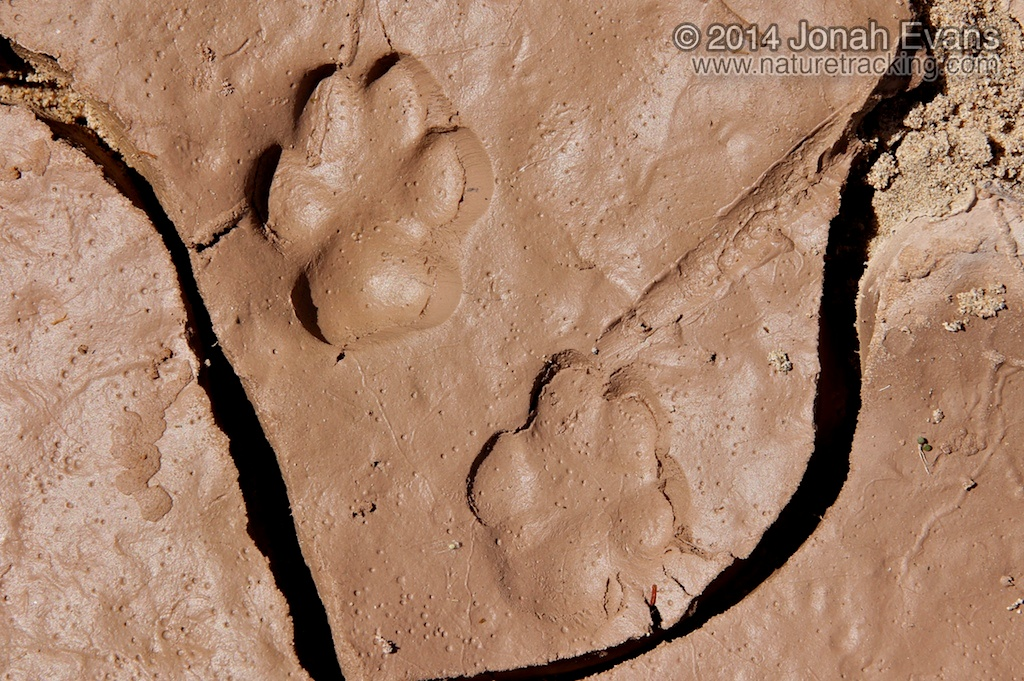fox: (211, 46, 521, 371), (431, 342, 723, 645)
